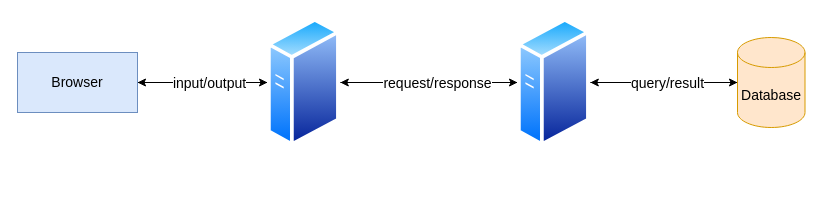
Image size: 823x208. Some labels were removed from this diagram. Here are the shapes that lost their labels. From the top down, the box of each, then its label:
(267, 17, 340, 147): Web Server (Apache)
(517, 17, 590, 147): Database Sever (MYSQL)
